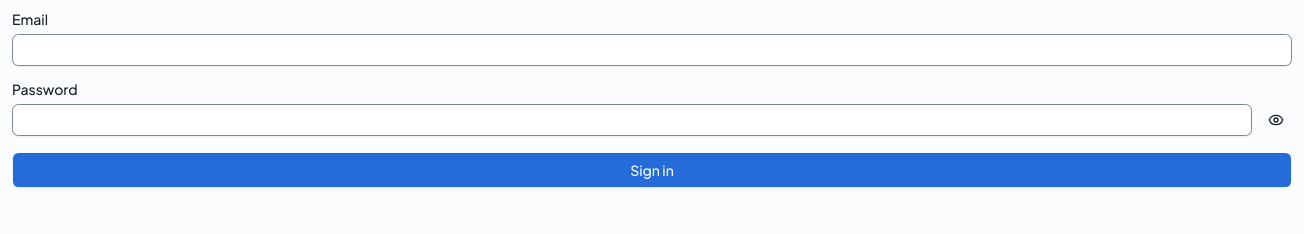
Test: CredentialsForm › describes an empty email with its translated message
Click the field labelled "Email".
click(652, 50)  # box x1=12 y1=34 x2=1292 y2=66
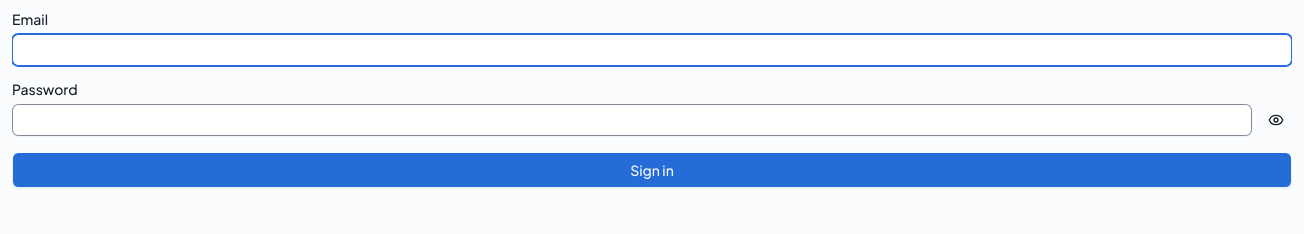
Type keys ""
Click the password field labelled "Password".
click(632, 120)  # box x1=12 y1=104 x2=1252 y2=136
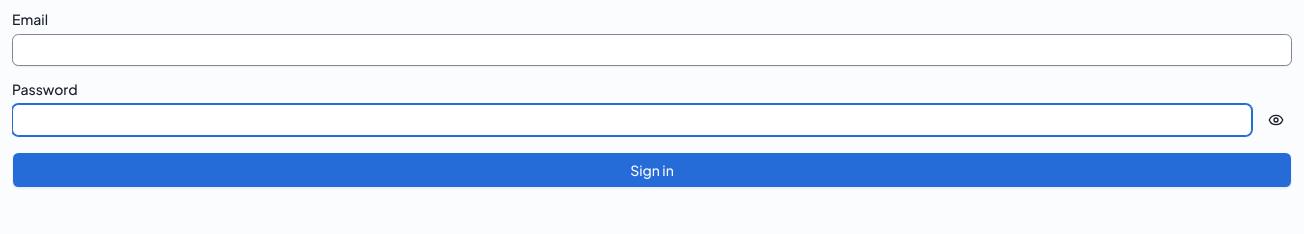
Type keys "stapler-42"
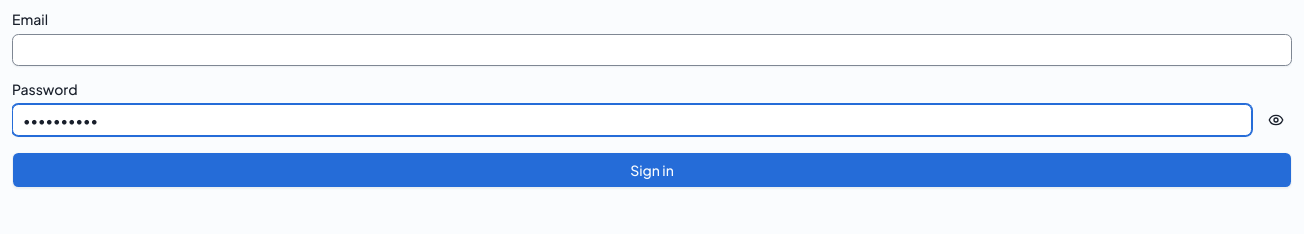
Click the button "Sign in".
click(652, 170)  # box x1=12 y1=152 x2=1292 y2=188
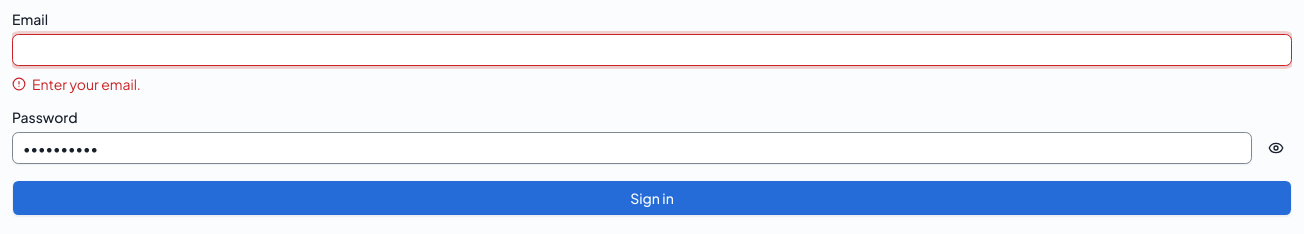
Result: the element showing "Enter your email." is shown at x1=12 y1=75 x2=141 y2=93
